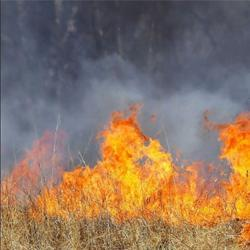fire: (104, 120, 154, 209), (223, 122, 250, 214), (64, 166, 102, 210)
smoke: (159, 91, 206, 141), (77, 77, 131, 103)
